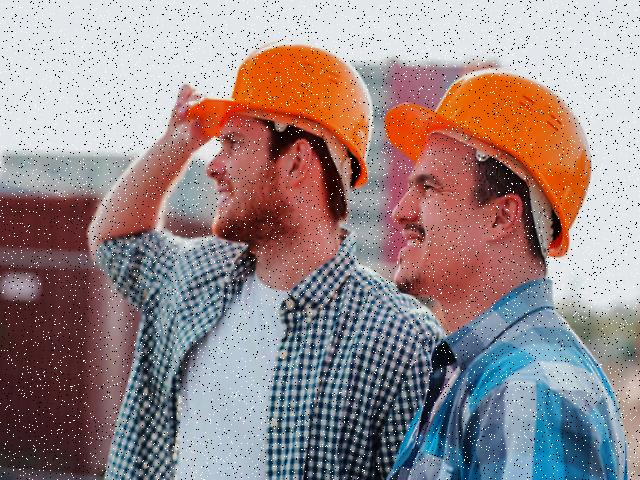Helmet: (381, 60, 597, 267), (192, 39, 378, 196)
